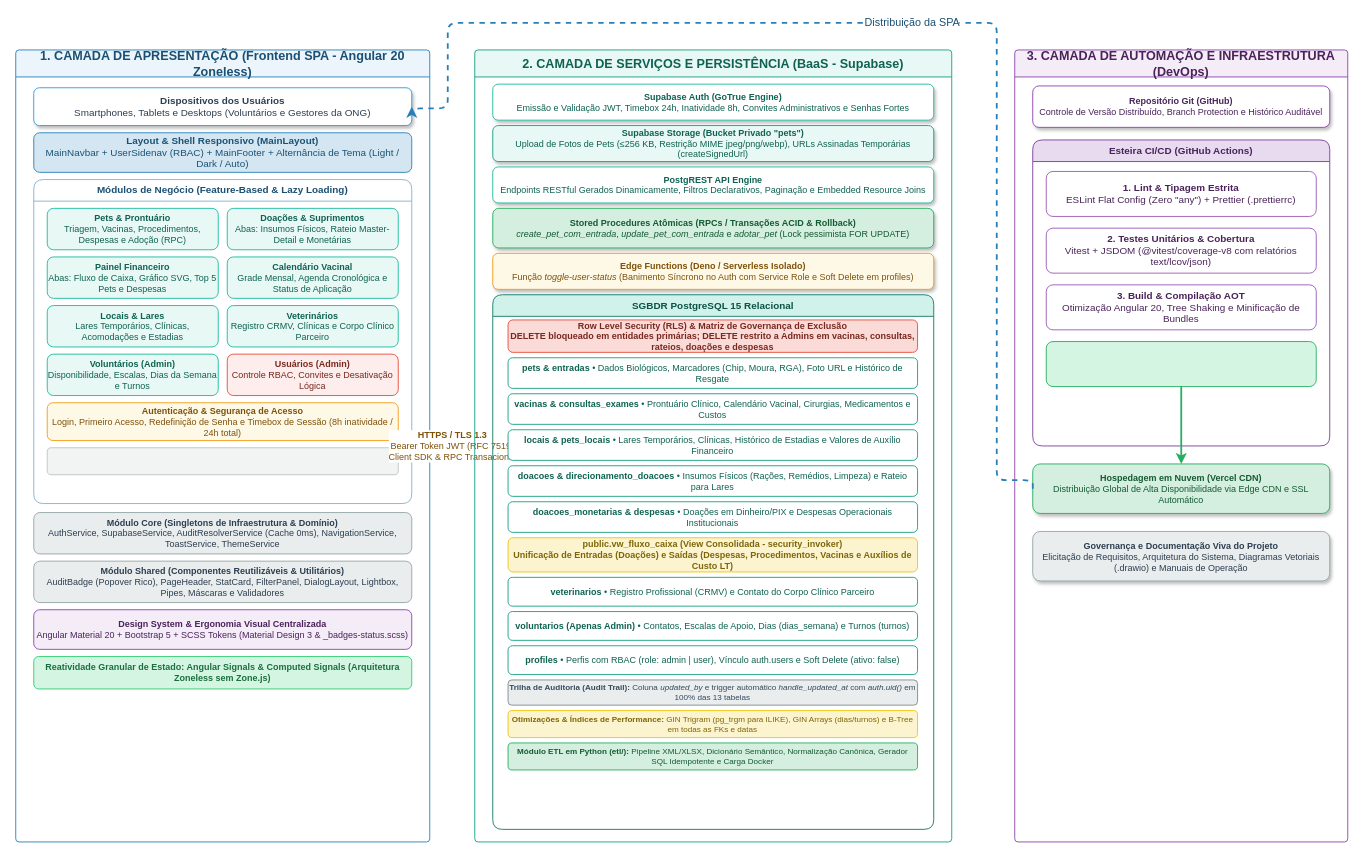
This 1364x858 diagram has some shape labels left out. The centre of each missing label's shape, as x and y in pixels:
"4. Deploy Automatizado Publicação contínua pós-aprovação em todos os testes" goes at point 1180,364.
"Roteamento & Guards: authGuard & adminGuard com Lazy Loading por Rota" goes at point 222,461.
